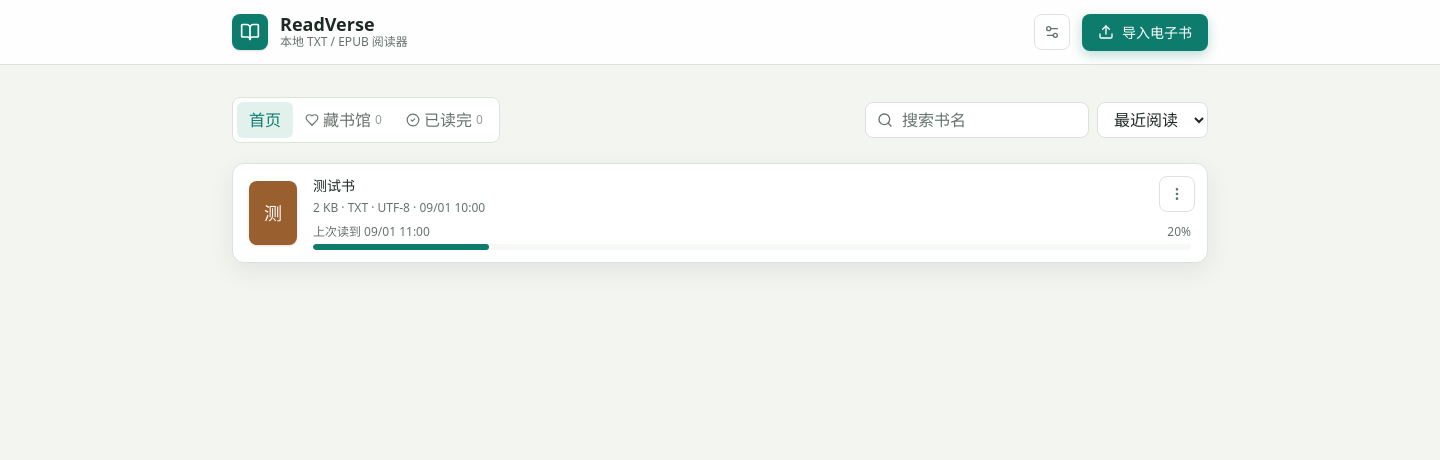
Test: Shelf › marks a book as read from the menu
Expected: the text "测试书" is shown, left=313, top=176, right=355, bottom=196
Click the button titled "更多操作" at (1177, 194), box left=1159, top=176, right=1195, bottom=212
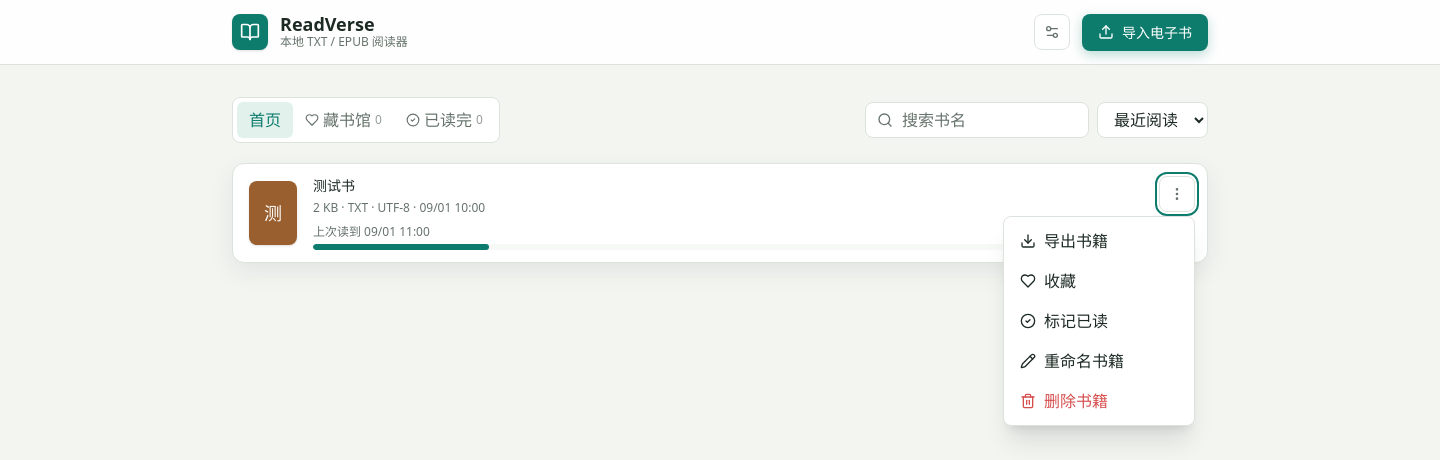
Click the button "标记已读" at (1099, 321), box left=1008, top=301, right=1190, bottom=341
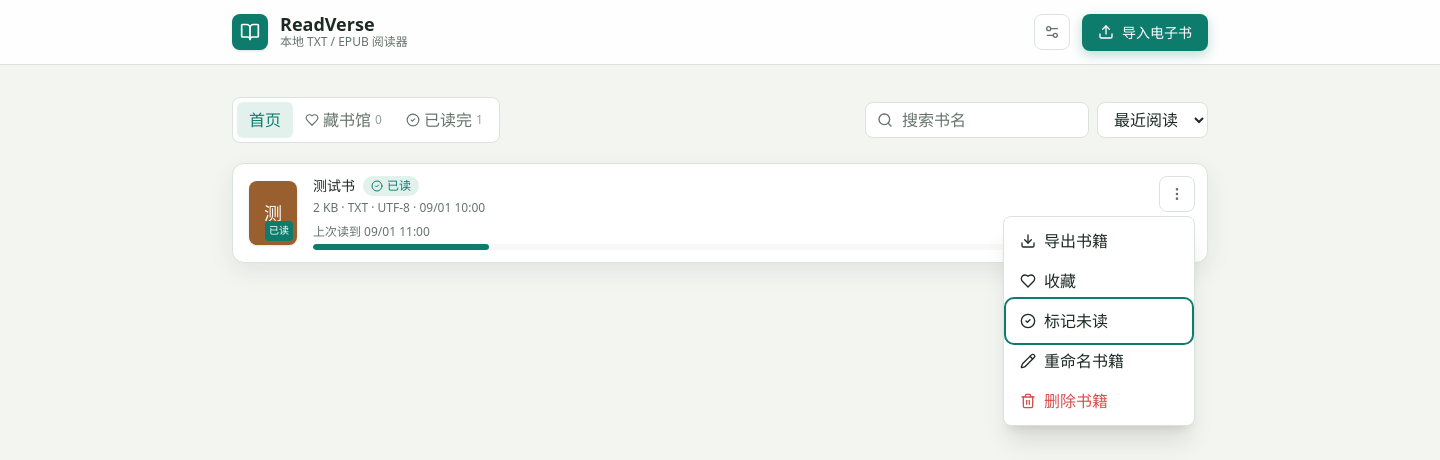
Expected: the text "已读" is shown, left=265, top=222, right=293, bottom=241
